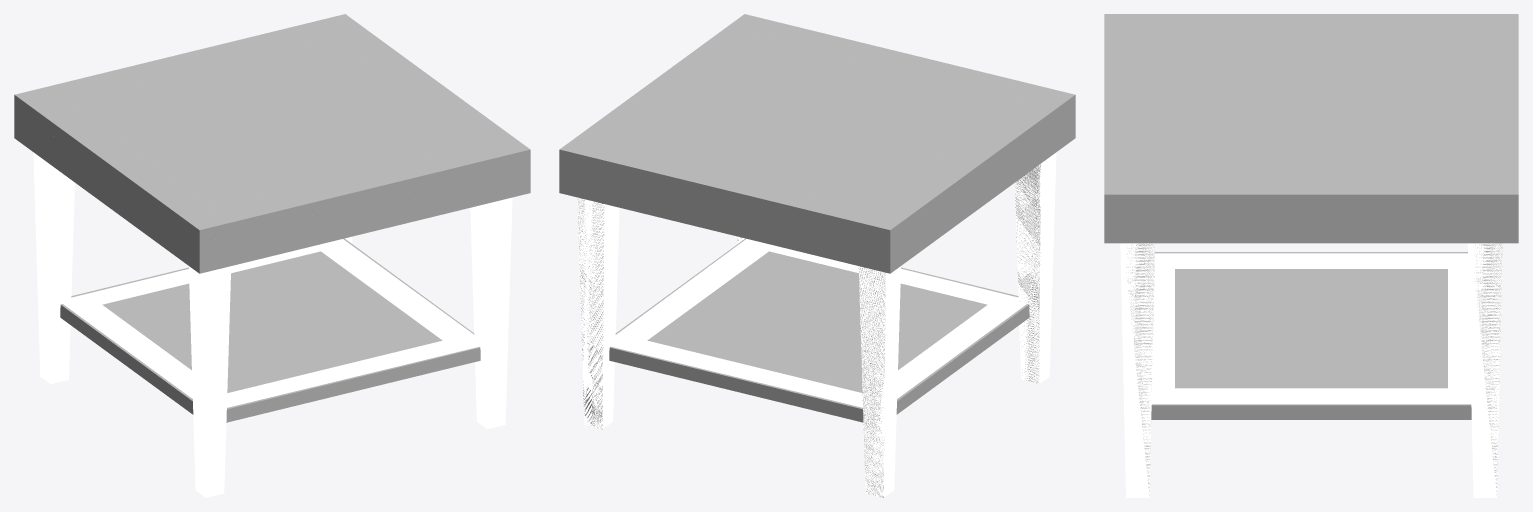
File: SM__SmallTable.fbx
3 views of the same model, side by side, from view 1: azimuth 30°, elevation 25°; view 2: azimuth 150°, elevation 25°; view 3: azimuth 270°, elevation 25° (orthographic). The views are drawn at different scales.
Parts seen in each view (by area): view 1: SM__SmallTable_ConvexHulls, SM__SmallTable; view 2: SM__SmallTable_ConvexHulls, SM__SmallTable; view 3: SM__SmallTable_ConvexHulls, SM__SmallTable.
Part boxes in pixels (x1=…): SM__SmallTable_ConvexHulls: x1=14, y1=14, x2=530, y2=422; SM__SmallTable: x1=33, y1=152, x2=512, y2=497; SM__SmallTable_ConvexHulls: x1=559, y1=14, x2=1075, y2=497; SM__SmallTable: x1=577, y1=152, x2=1056, y2=497; SM__SmallTable_ConvexHulls: x1=1104, y1=14, x2=1518, y2=491; SM__SmallTable: x1=1120, y1=243, x2=1502, y2=497.
Size of the model in its own units: 59.55 by 57.72 by 47.93.
2 materials, 1 textured.
